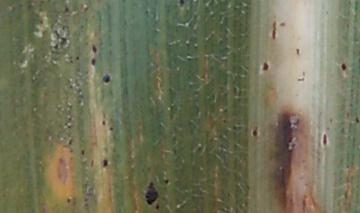tarspot: (141, 178, 161, 208), (319, 129, 331, 150), (248, 123, 260, 141), (88, 56, 101, 69), (258, 61, 273, 72), (87, 42, 102, 53), (100, 72, 111, 86), (100, 156, 110, 171), (337, 61, 349, 72), (61, 3, 71, 16), (175, 1, 186, 12), (296, 43, 304, 58), (143, 6, 151, 20), (98, 117, 108, 128), (161, 175, 170, 187), (73, 52, 83, 62), (351, 115, 360, 126), (65, 193, 72, 206), (77, 147, 86, 157), (105, 125, 115, 134)
